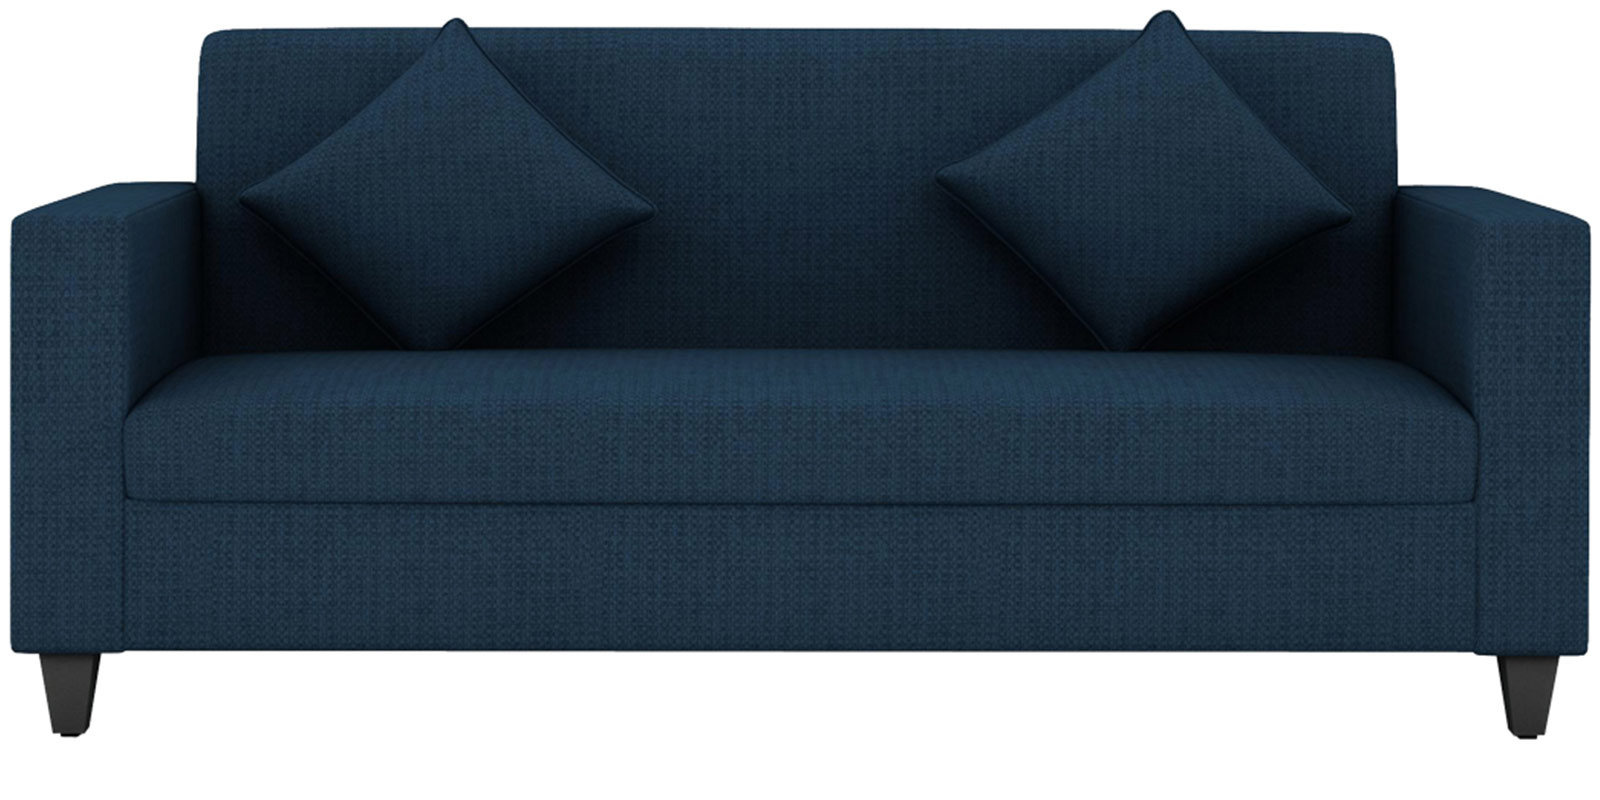Cooper Three Seater Sofa in Royal Blue Colour by ARRA: (4, 18, 1599, 723)
